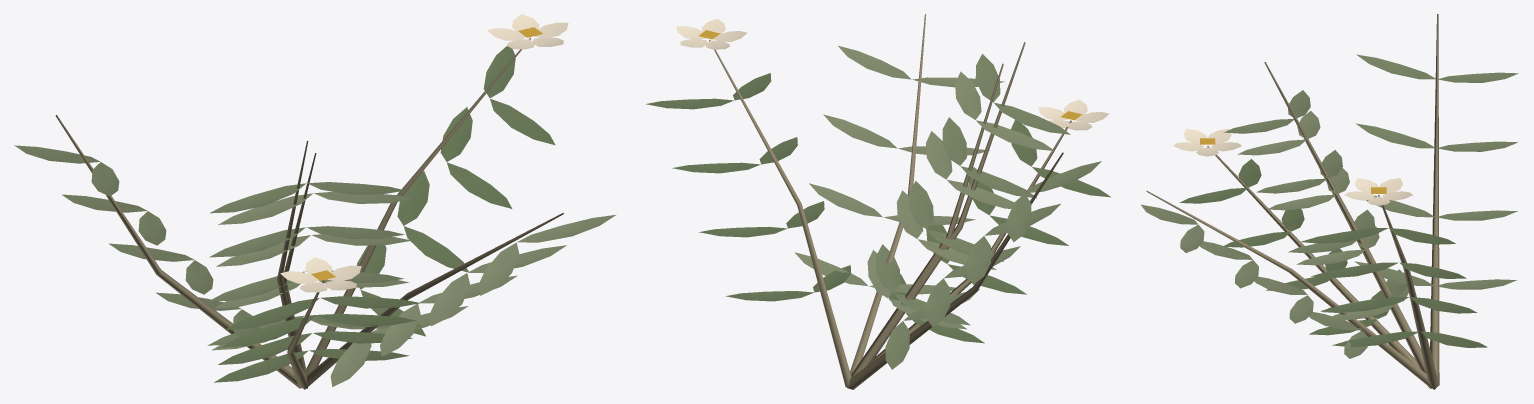
Rendered from CisteSauge_2_Low.fbx.
3 renders of one model, left to right at view 1: azimuth 30°, elevation 25°; view 2: azimuth 150°, elevation 25°; view 3: azimuth 270°, elevation 25°, orthographic. The views are drawn at different scales.
Visible parts, largest first — view 1: CisteSauge_2_Low; view 2: CisteSauge_2_Low; view 3: CisteSauge_2_Low.
Boxes of the visible parts, x1,y1,x2,y2 form: CisteSauge_2_Low: (14,14,616,389); CisteSauge_2_Low: (645,14,1110,389); CisteSauge_2_Low: (1141,14,1518,389).
Size of the model in its own units: 71.1 by 49.16 by 58.8.
